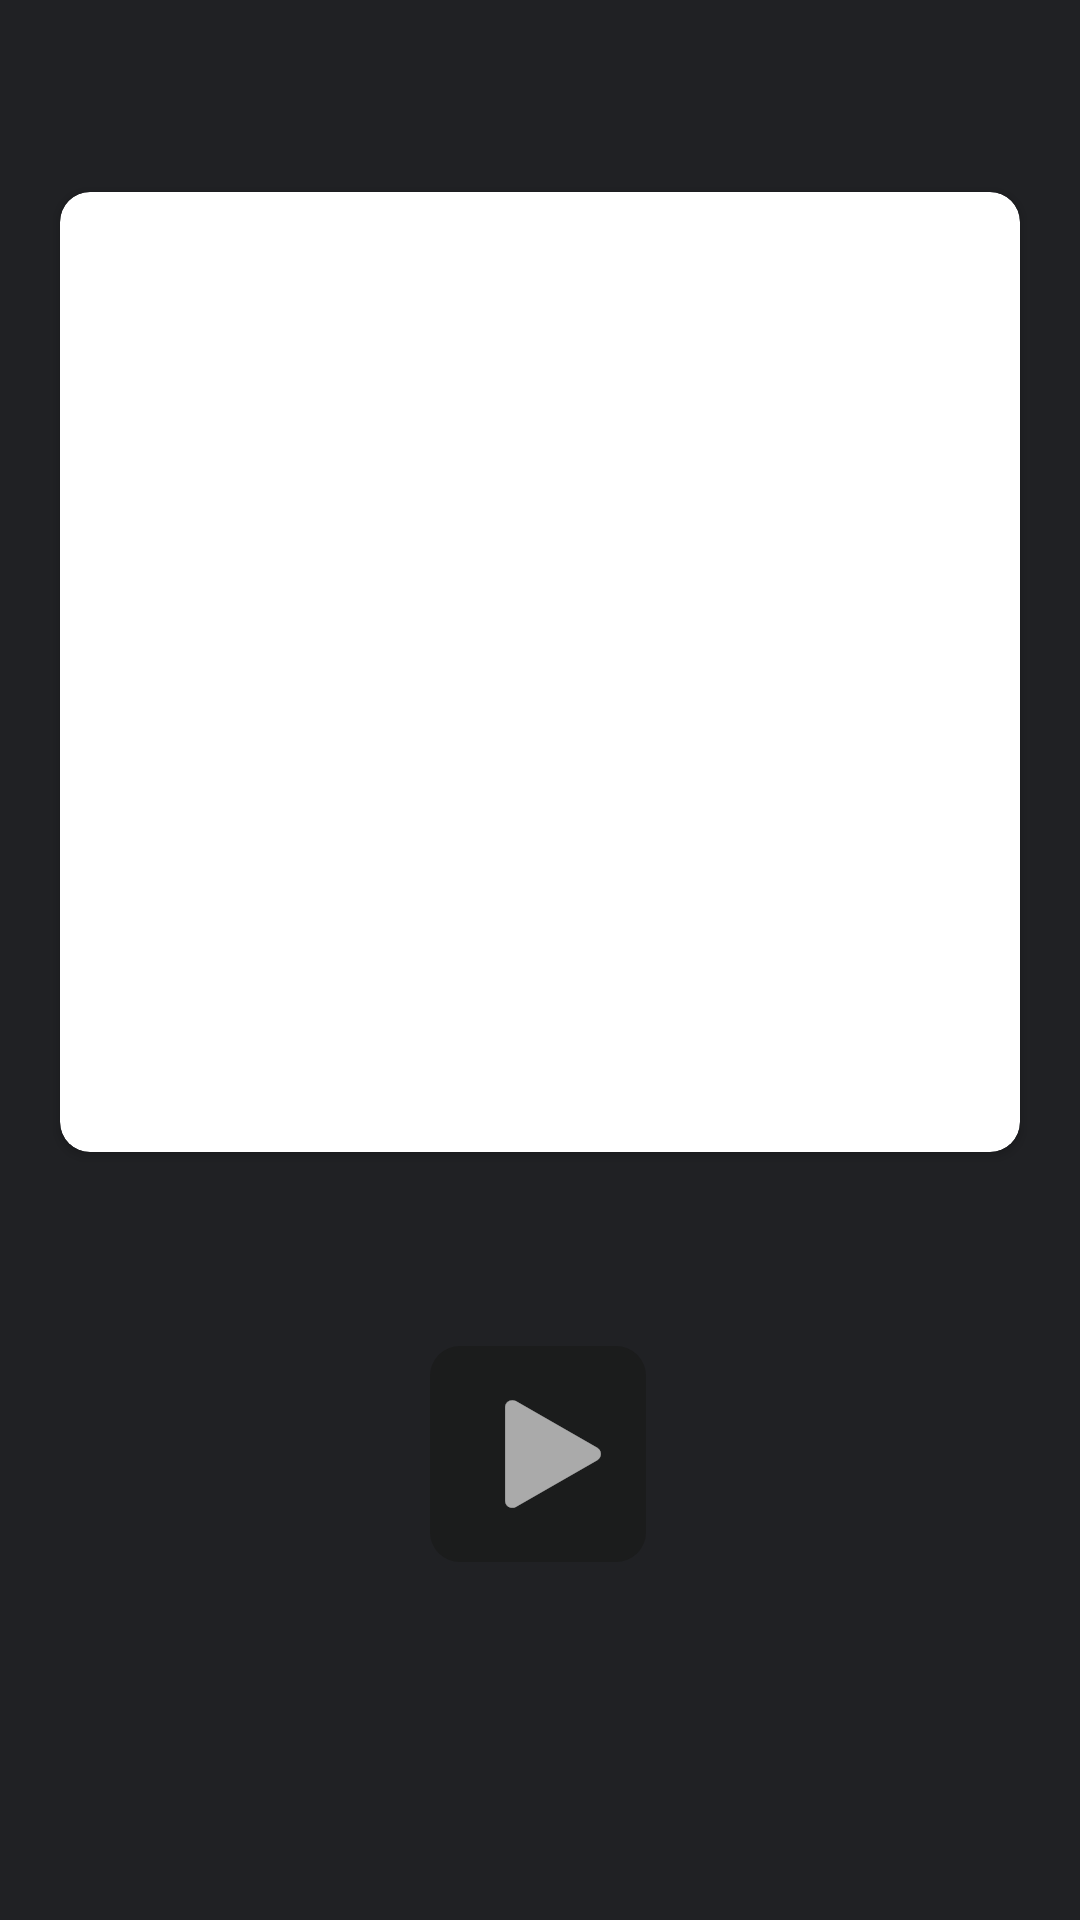

Screen size 1080px x 1920px. Icon name, then its center in pixels as (x,y):
play: (553,1454)
